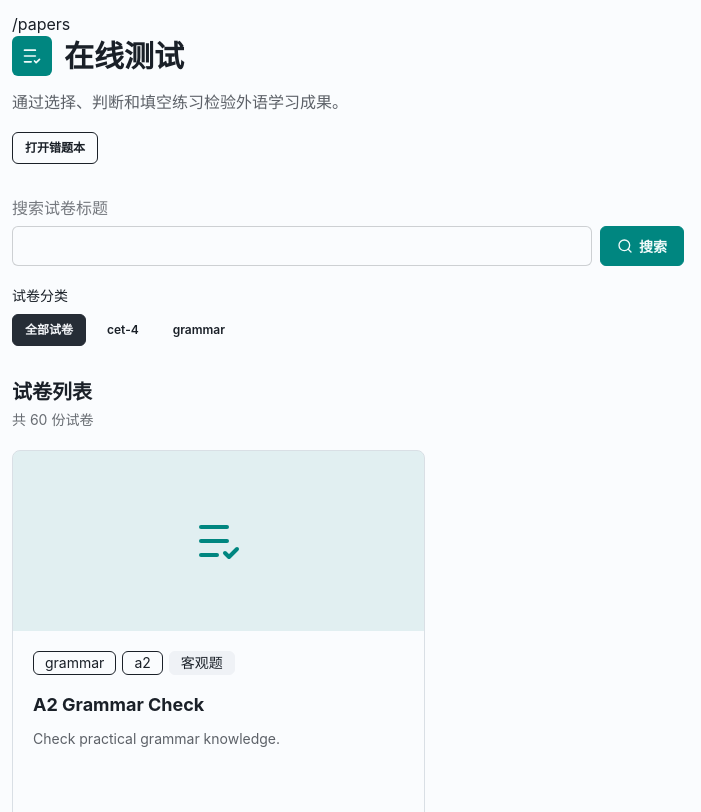
Test: PapersPage › selects a category from the directory
This screenshot has width=701, height=812.
Click the button "grammar". click: click(199, 330)
box: [160,314,238,346]
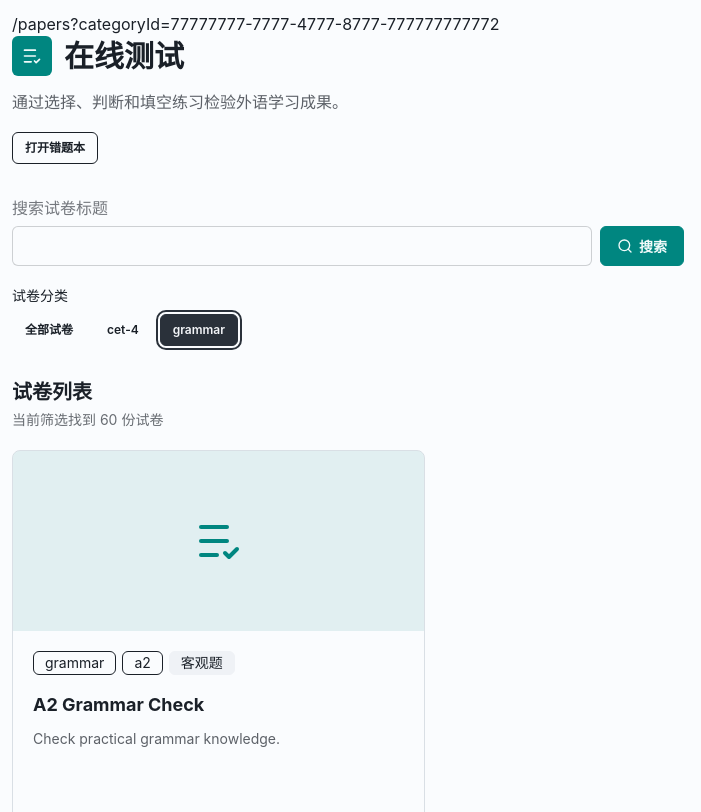
expect the text with test id "location" shows "/papers?categoryId=": met, box [12,14,499,34]
